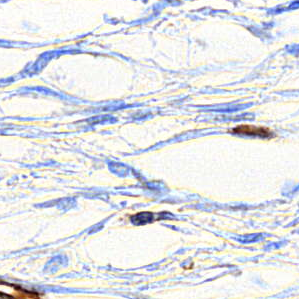Lymphocyte: (228, 122, 280, 143)
